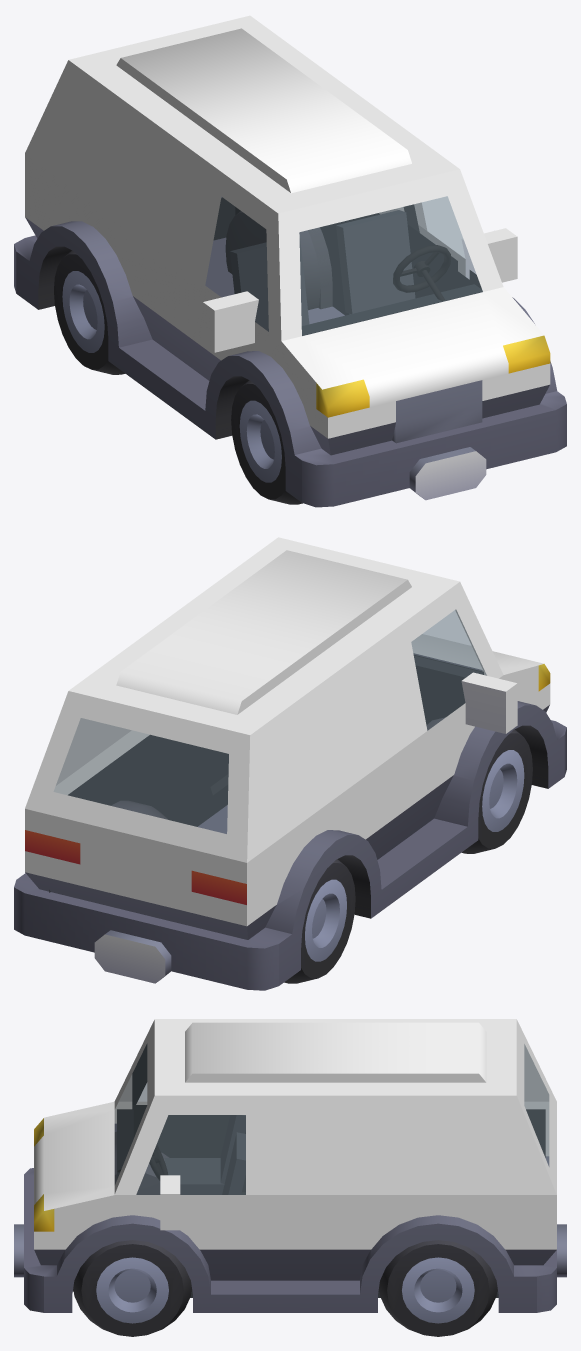
The model's file is van.glb.
The picture shows the model from 3 angles, top to bottom: view 1: azimuth 30°, elevation 25°; view 2: azimuth 150°, elevation 25°; view 3: azimuth 270°, elevation 25°; orthographic projection. The views are drawn at different scales.
Visible parts, largest first — view 1: paint, body, glass, interior, door-front-right-glass, wheel-back-right, wheel-front-right, door-front-right-paint, wheel-back-left, steering-wheel, door-front-left-glass, door-front-right-panel (+2 smaller); view 2: paint, body, glass, interior, door-front-right-paint, door-front-right-glass, wheel-front-right, wheel-back-right, door-front-right-panel; view 3: paint, body, door-front-left-paint, wheel-back-left, wheel-front-left, interior, door-front-left-glass, glass, door-front-left-panel, door-front-right-trim, wheel-front-right.
Part boxes in pixels (bbox=[...]): paint: bbox=[25, 15, 550, 438]; body: bbox=[14, 197, 566, 507]; glass: bbox=[299, 196, 482, 335]; interior: bbox=[213, 197, 482, 335]; door-front-right-glass: bbox=[205, 197, 268, 331]; wheel-back-right: bbox=[54, 250, 125, 374]; wheel-front-right: bbox=[231, 380, 302, 504]; door-front-right-paint: bbox=[192, 187, 279, 360]; wheel-back-left: bbox=[225, 211, 331, 309]; steering-wheel: bbox=[393, 245, 450, 300]; door-front-left-glass: bbox=[422, 196, 464, 257]; door-front-right-panel: bbox=[192, 339, 250, 413]; paint: bbox=[25, 537, 550, 926]; body: bbox=[14, 653, 566, 990]; glass: bbox=[54, 610, 482, 833]; interior: bbox=[49, 655, 483, 892]; door-front-right-paint: bbox=[398, 600, 517, 803]; door-front-right-glass: bbox=[411, 610, 486, 730]; wheel-front-right: bbox=[426, 717, 532, 853]; wheel-back-right: bbox=[284, 859, 355, 983]; door-front-right-panel: bbox=[402, 731, 501, 840]; paint: bbox=[34, 1019, 556, 1249]; body: bbox=[14, 1118, 566, 1312]; door-front-left-paint: bbox=[132, 1115, 268, 1249]; wheel-back-left: bbox=[379, 1240, 497, 1336]; wheel-front-left: bbox=[73, 1240, 191, 1336]; interior: bbox=[117, 1109, 545, 1297]; door-front-left-glass: bbox=[136, 1115, 245, 1194]; glass: bbox=[115, 1044, 548, 1183]; door-front-left-panel: bbox=[132, 1223, 268, 1293]; door-front-right-trim: bbox=[132, 1044, 245, 1194]; wheel-front-right: bbox=[114, 1144, 168, 1194].
Size of the model in its own units: 2.4 by 2.16 by 4.4.
4 materials, 1 textured.
